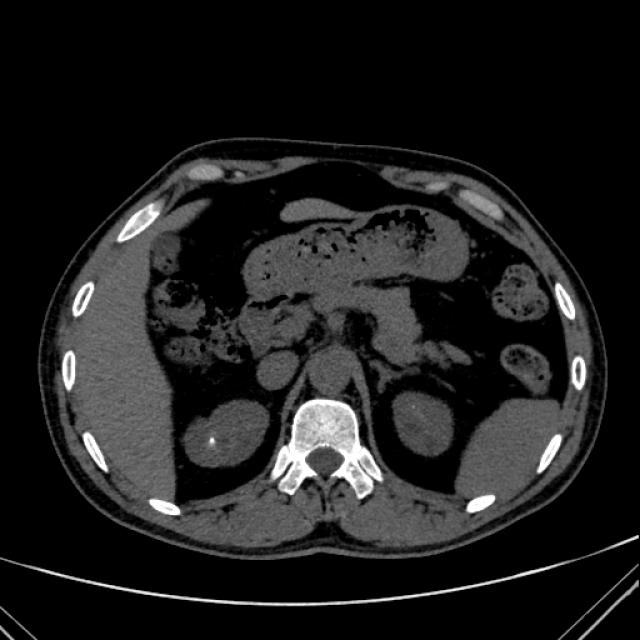kidneystone: (194, 416, 219, 451)
